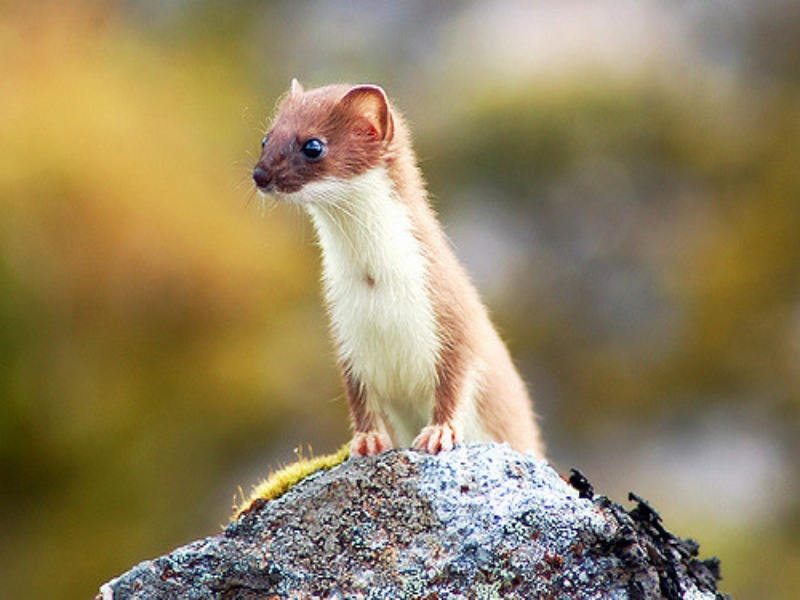minkish: (247, 78, 569, 486)
